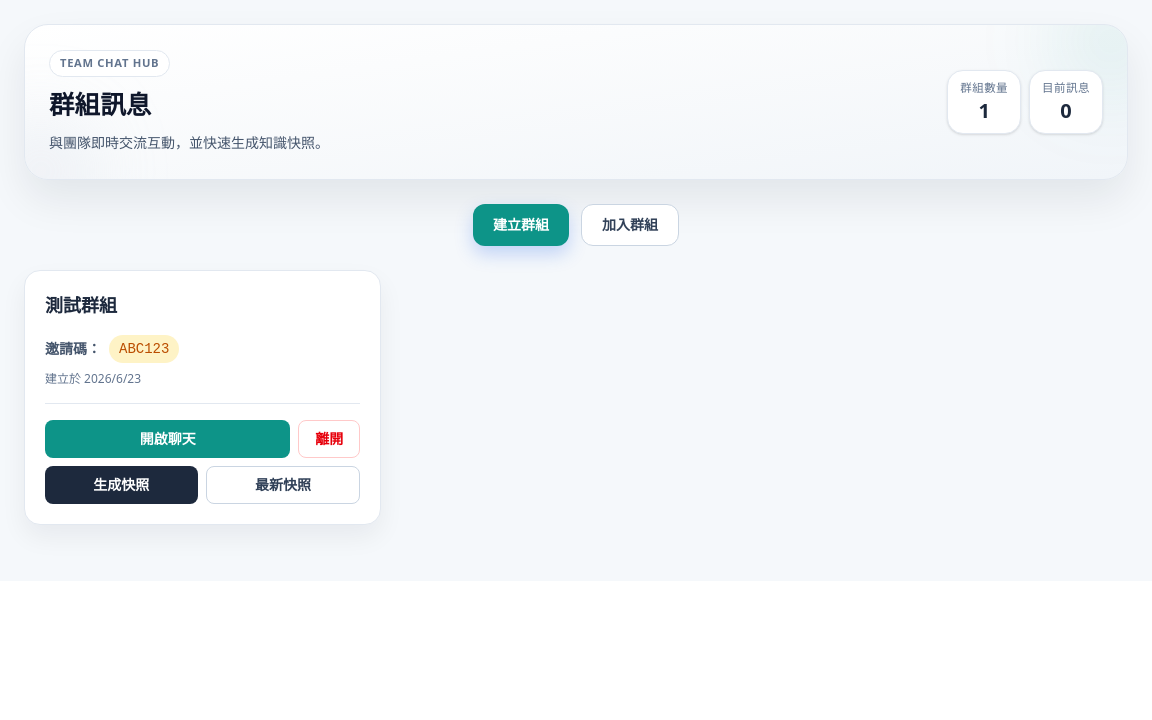
Test: GroupsView snapshot generation › opens the snapshot modal when synchronous generation succeeds
Click the button "生成快照". click: [121, 485]
box: [45,466,198,504]
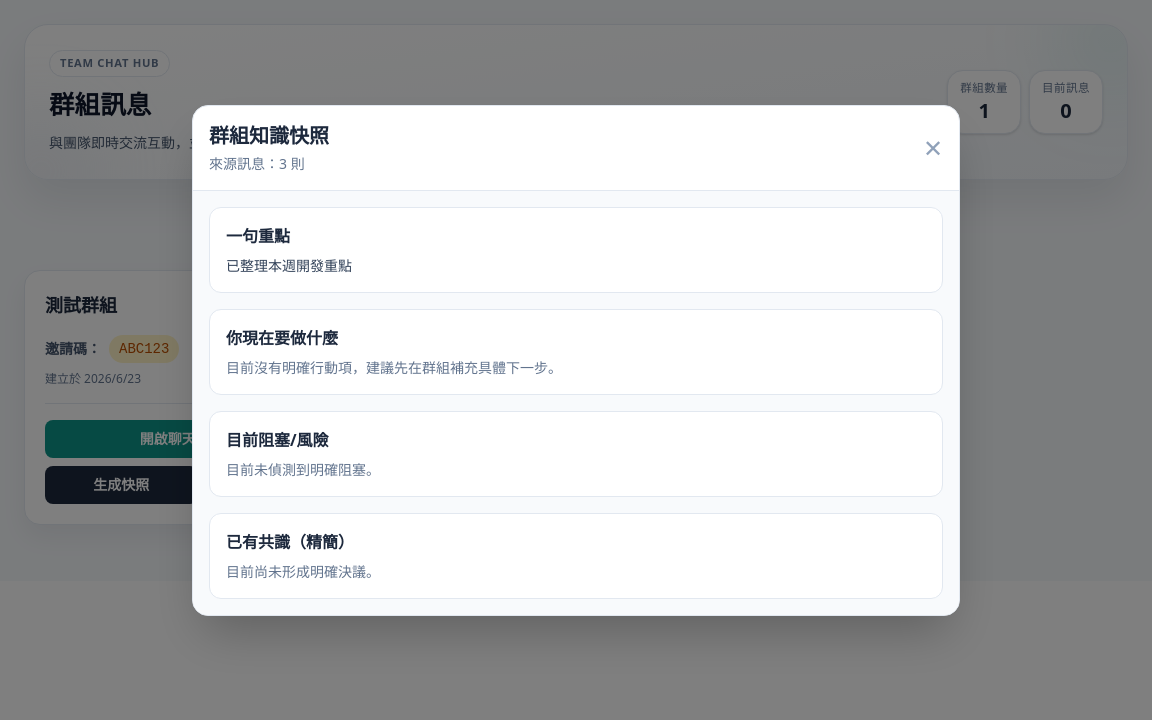
expect the text "群組知識快照" is shown: met, box [209,122,329,150]
expect the text "已整理本週開發重點" is shown: met, box [226,256,352,274]
